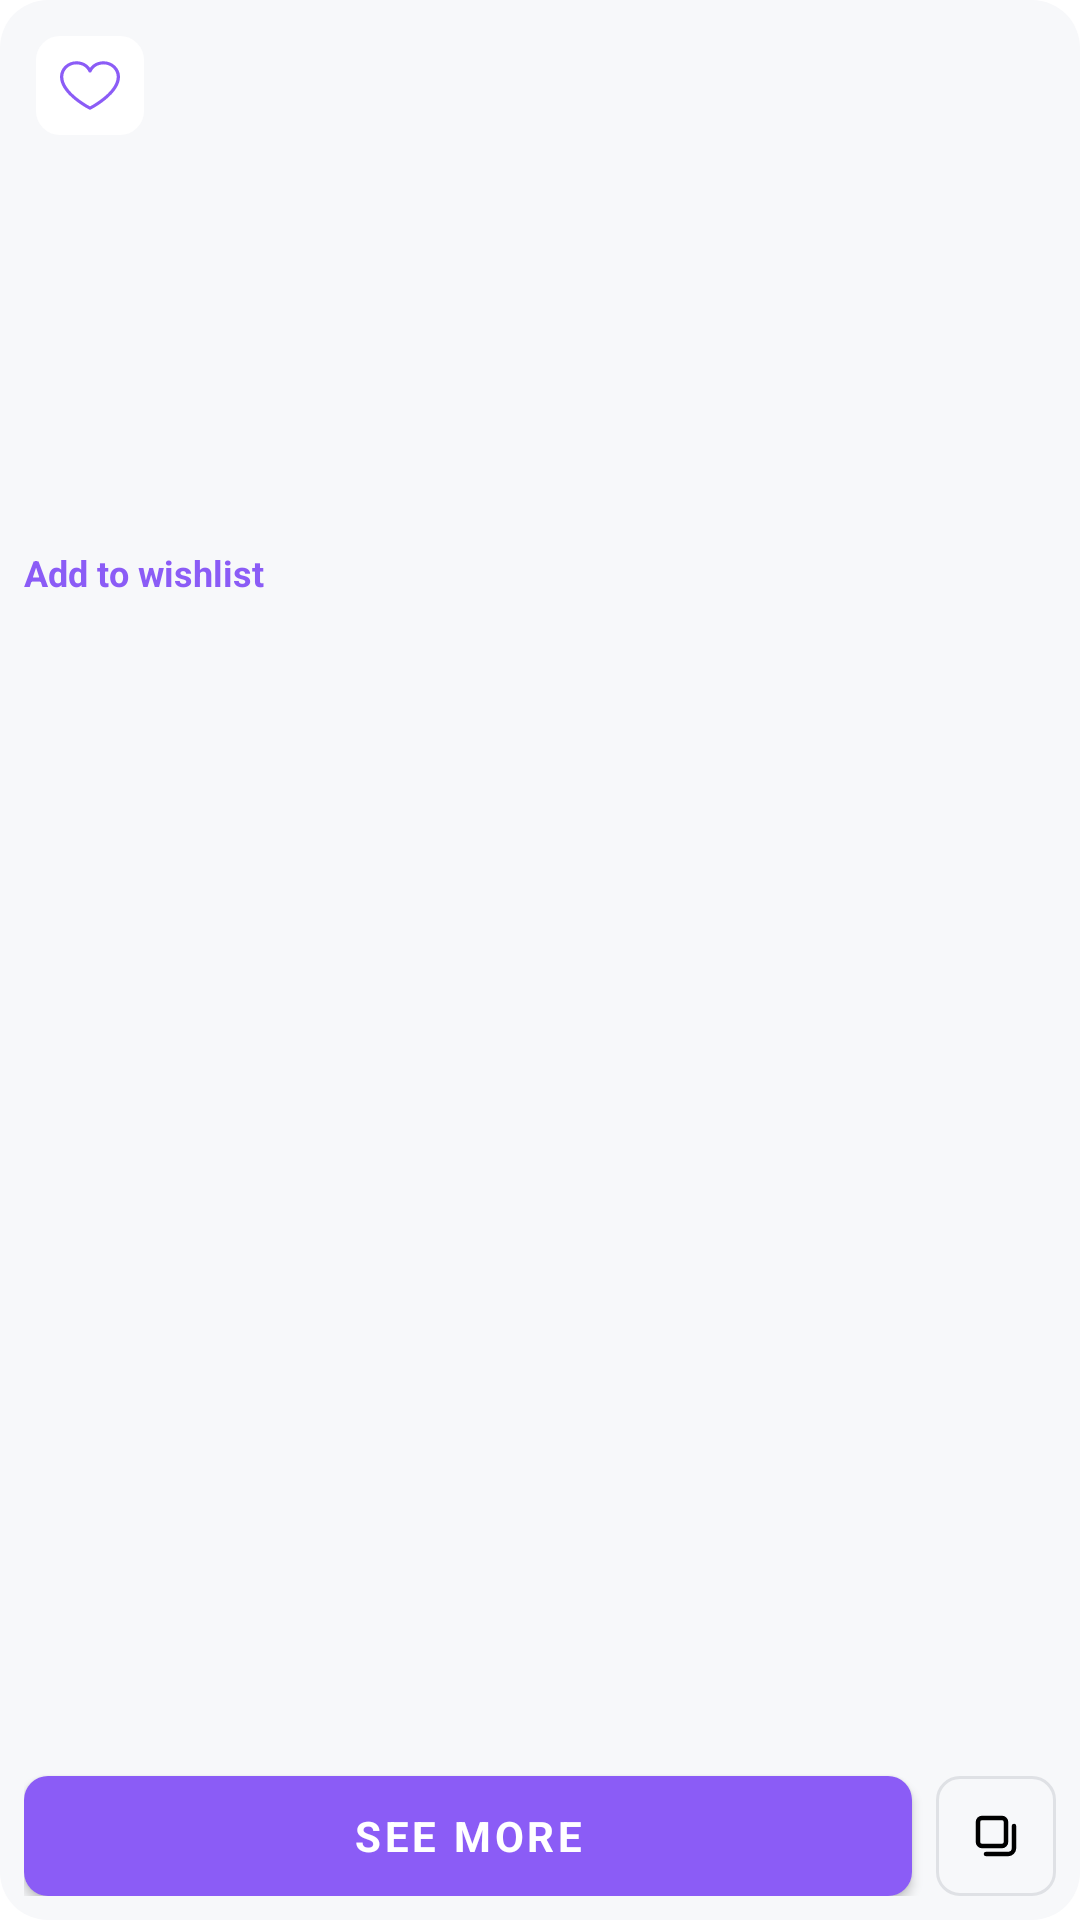

Icons on this 1080px x 1920px Android screen, each with its box as (x1, y1, x2, y2):
wishlist: (60, 61, 120, 110)
